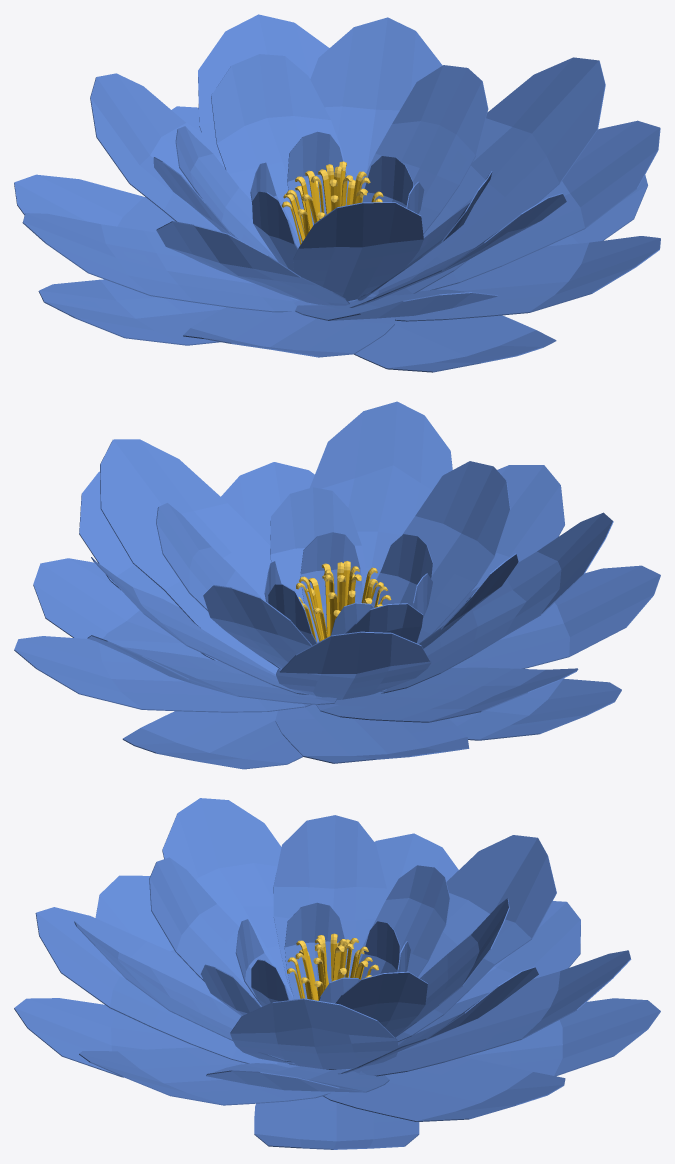
The model's file is Flower_1.fbx.
3 renders of one model, top to bottom at view 1: azimuth 30°, elevation 25°; view 2: azimuth 150°, elevation 25°; view 3: azimuth 270°, elevation 25°, orthographic. The views are drawn at different scales.
Parts seen in each view (by area): view 1: Flower_01; view 2: Flower_01; view 3: Flower_01.
Part boxes in pixels (x1,y1,x2,y2): Flower_01: (14, 14, 660, 372); Flower_01: (14, 401, 660, 769); Flower_01: (14, 798, 660, 1149).
Bounding box in the file's own units: 4.76 × 1.5 × 4.75.
Materials: 1 (1 with a texture image).
